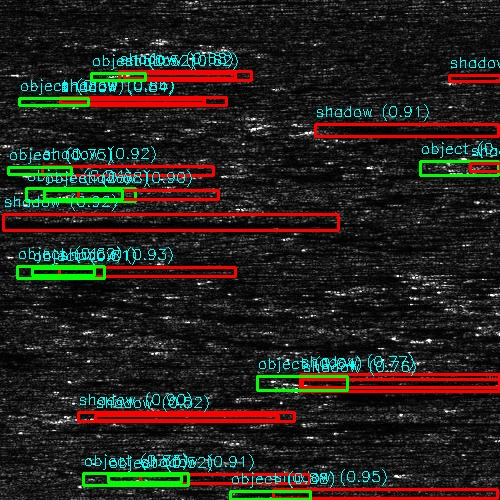rock: (253, 373, 358, 396), (0, 165, 92, 178), (406, 163, 500, 172), (91, 475, 184, 484), (301, 124, 364, 137), (36, 413, 119, 422), (236, 491, 319, 500), (52, 189, 125, 198), (35, 268, 98, 275), (0, 99, 81, 104), (486, 75, 500, 94), (144, 37, 185, 42), (420, 271, 461, 276), (89, 73, 130, 78), (220, 172, 261, 175)
shadow: (0, 212, 291, 231), (306, 373, 479, 396), (40, 165, 214, 178), (333, 124, 500, 137), (278, 491, 500, 500), (78, 413, 292, 422), (138, 475, 299, 484), (67, 268, 233, 275), (89, 189, 205, 198), (40, 99, 215, 104), (110, 73, 231, 78), (165, 37, 225, 42), (441, 271, 500, 276), (474, 163, 500, 172), (241, 172, 302, 175)
